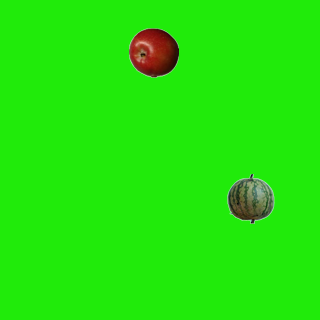Apple Braeburn: (128, 27, 178, 77)
Watermelon: (225, 173, 275, 223)
